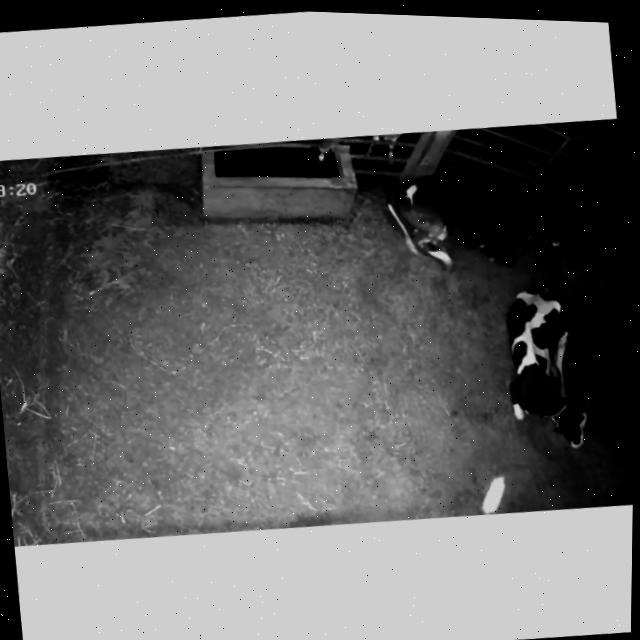lay: (377, 149, 580, 300), (483, 275, 602, 465)
